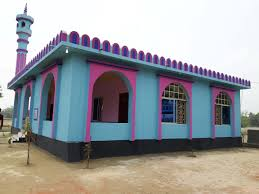Mosque: (7, 3, 252, 152)
